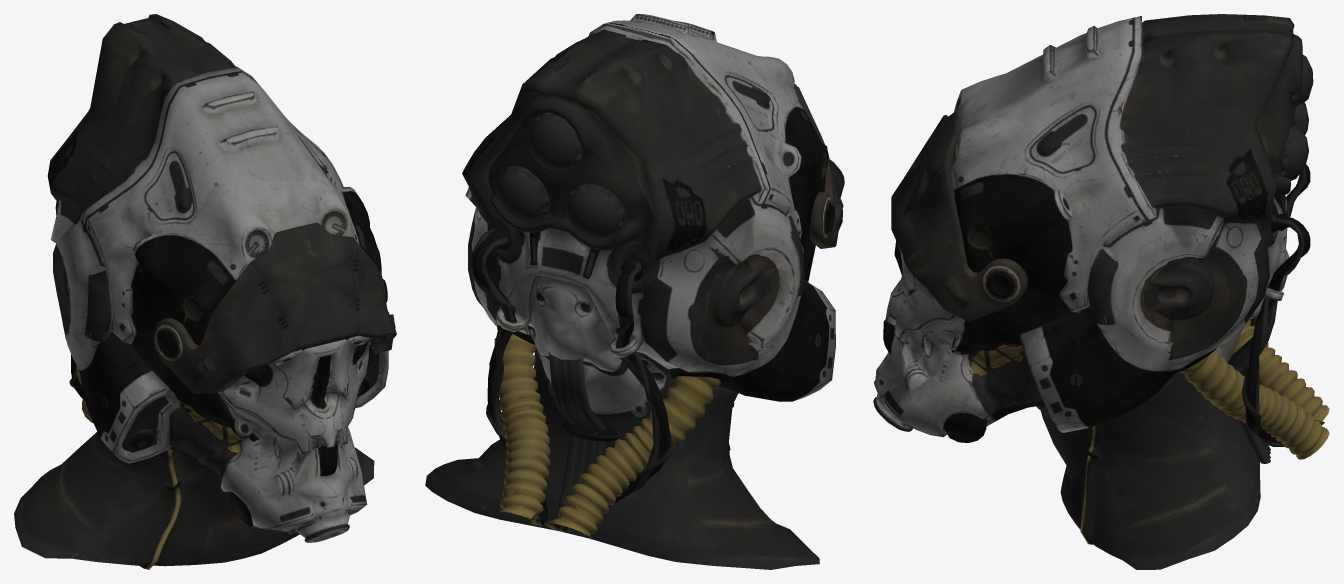
File: helmet_crew.glb
3 views of the same model, side by side, from view 1: azimuth 30°, elevation 25°; view 2: azimuth 150°, elevation 25°; view 3: azimuth 270°, elevation 25° (orthographic). The views are drawn at different scales.
Visible parts, largest first — view 1: SciFiHelmet; view 2: SciFiHelmet; view 3: SciFiHelmet.
Boxes of the visible parts, x1=… form: SciFiHelmet: x1=14, y1=14, x2=396, y2=569; SciFiHelmet: x1=425, y1=14, x2=844, y2=569; SciFiHelmet: x1=873, y1=14, x2=1329, y2=569.
Bounding box in the file's own units: 2.3 × 2.92 × 2.5.
1 material, 1 textured.
